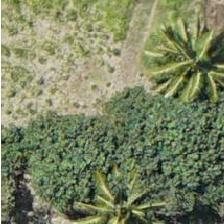coconut_tree: (150, 6, 223, 96), (73, 175, 163, 223)
